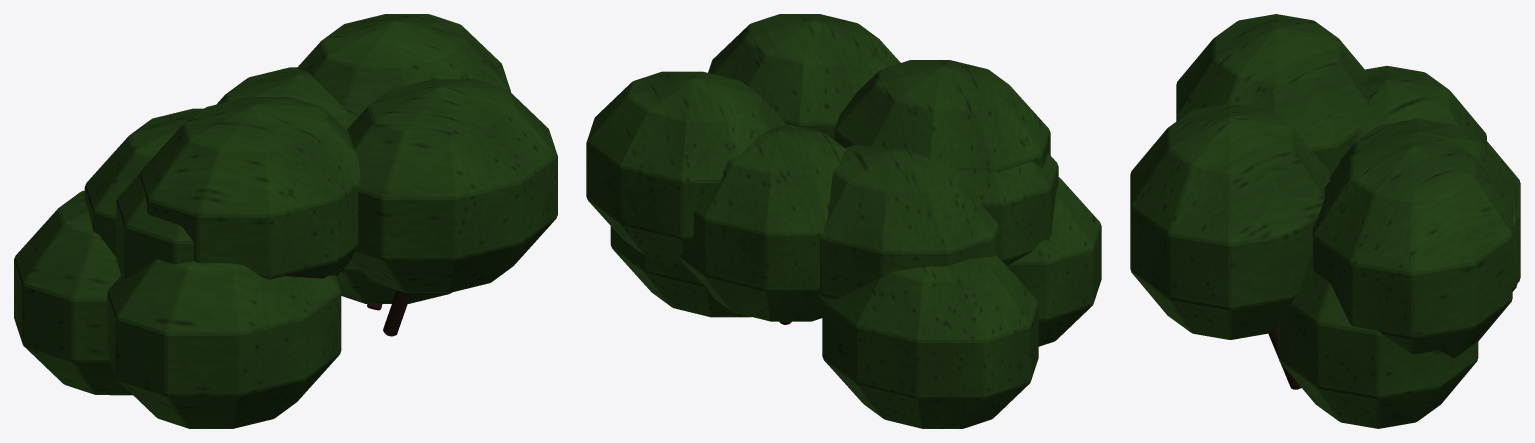
Rendered from PROP-E506F8AF3772_lod1.glb.
3 views of the same model, side by side, from view 1: azimuth 30°, elevation 25°; view 2: azimuth 150°, elevation 25°; view 3: azimuth 270°, elevation 25° (orthographic). The views are drawn at different scales.
Parts seen in each view (by area): view 1: foliage.003, plant_stem.003; view 2: foliage.003; view 3: foliage.003.
Boxes of the visible parts, x1,y1,x2,y2 form: foliage.003: (14,14,557,428); plant_stem.003: (367,290,411,336); foliage.003: (586,14,1101,428); foliage.003: (1130,14,1520,428).
Size of the model in its own units: 1.25 by 0.8042 by 0.8477.
Materials: 2 (2 with a texture image).
